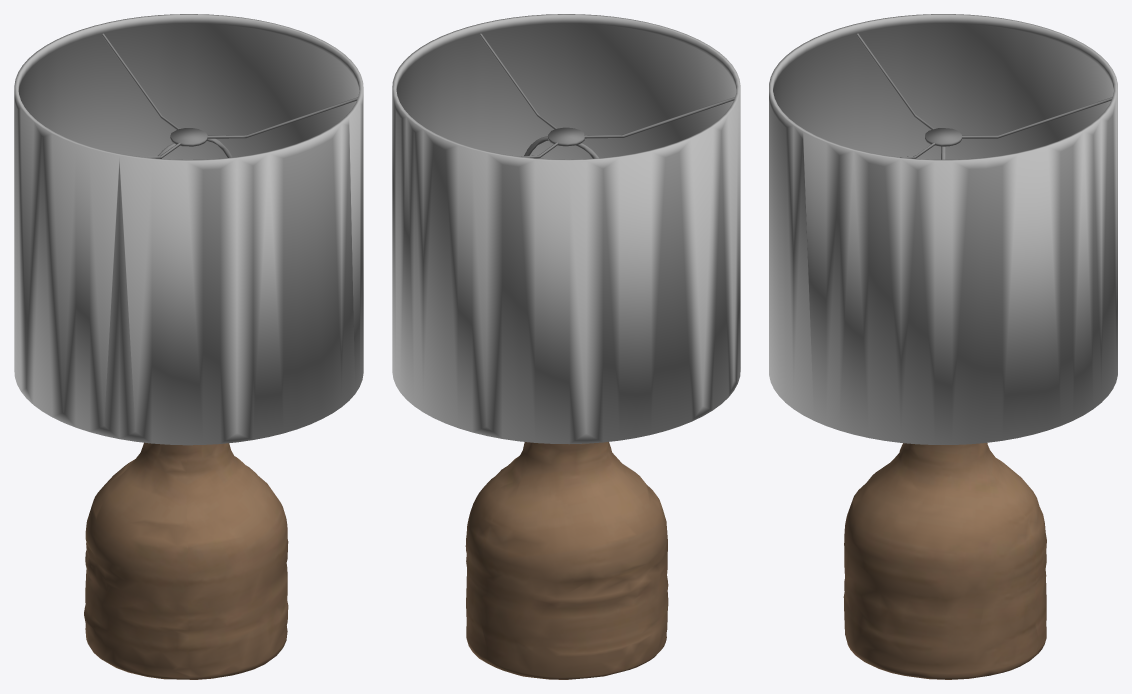
The model's file is abo-B07MBFDQHP.glb.
The picture shows the model from 3 angles, left to right: view 1: azimuth 30°, elevation 25°; view 2: azimuth 150°, elevation 25°; view 3: azimuth 270°, elevation 25°; orthographic projection.
Visible parts, largest first — view 1: RootNode; view 2: RootNode; view 3: RootNode.
Boxes of the visible parts, x1=… form: RootNode: x1=14, y1=14, x2=363, y2=679; RootNode: x1=392, y1=14, x2=740, y2=679; RootNode: x1=769, y1=14, x2=1117, y2=679.
Bounding box in the file's own units: 0.2401 × 0.4197 × 0.2401.
1 material, 1 textured.
